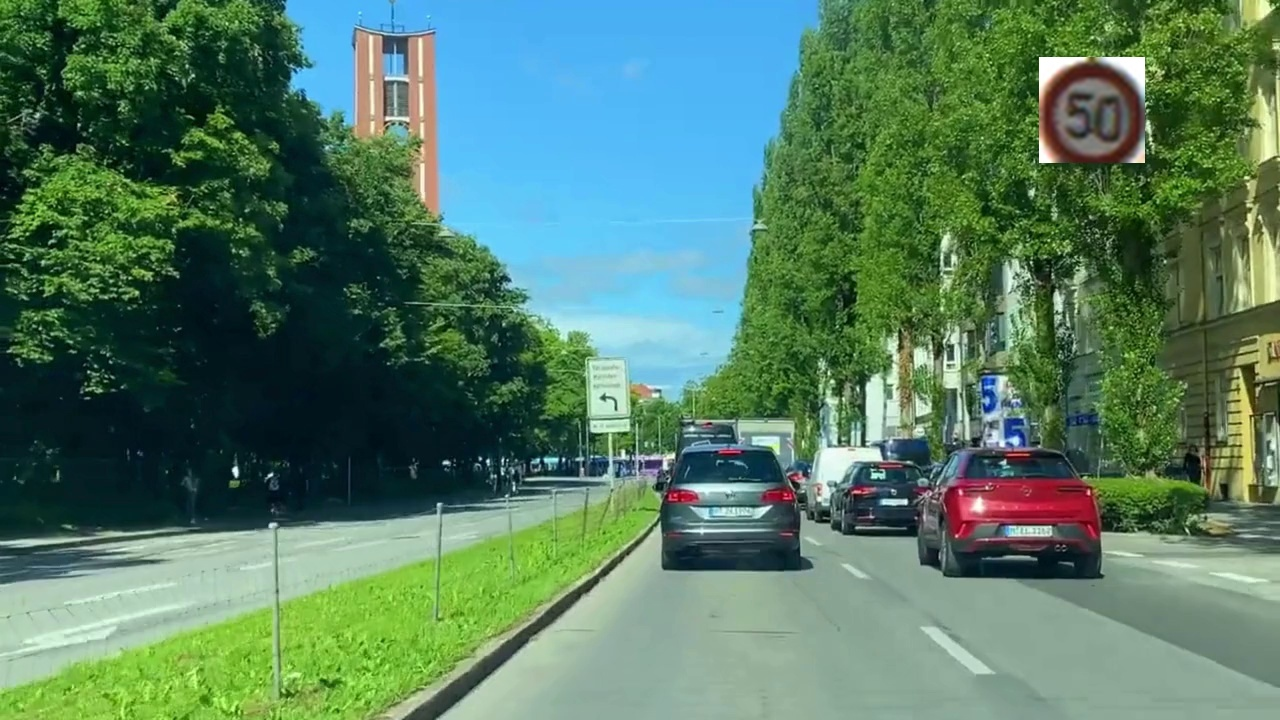Speed 50: (1039, 57, 1145, 163)
